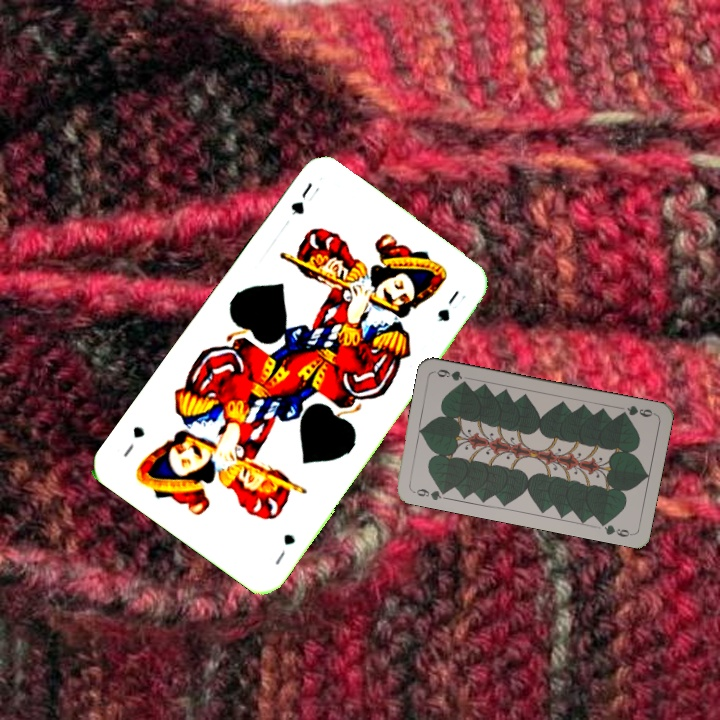G9: (616, 401, 657, 420), (409, 484, 450, 503)
GU: (287, 178, 323, 218), (270, 529, 298, 568)
